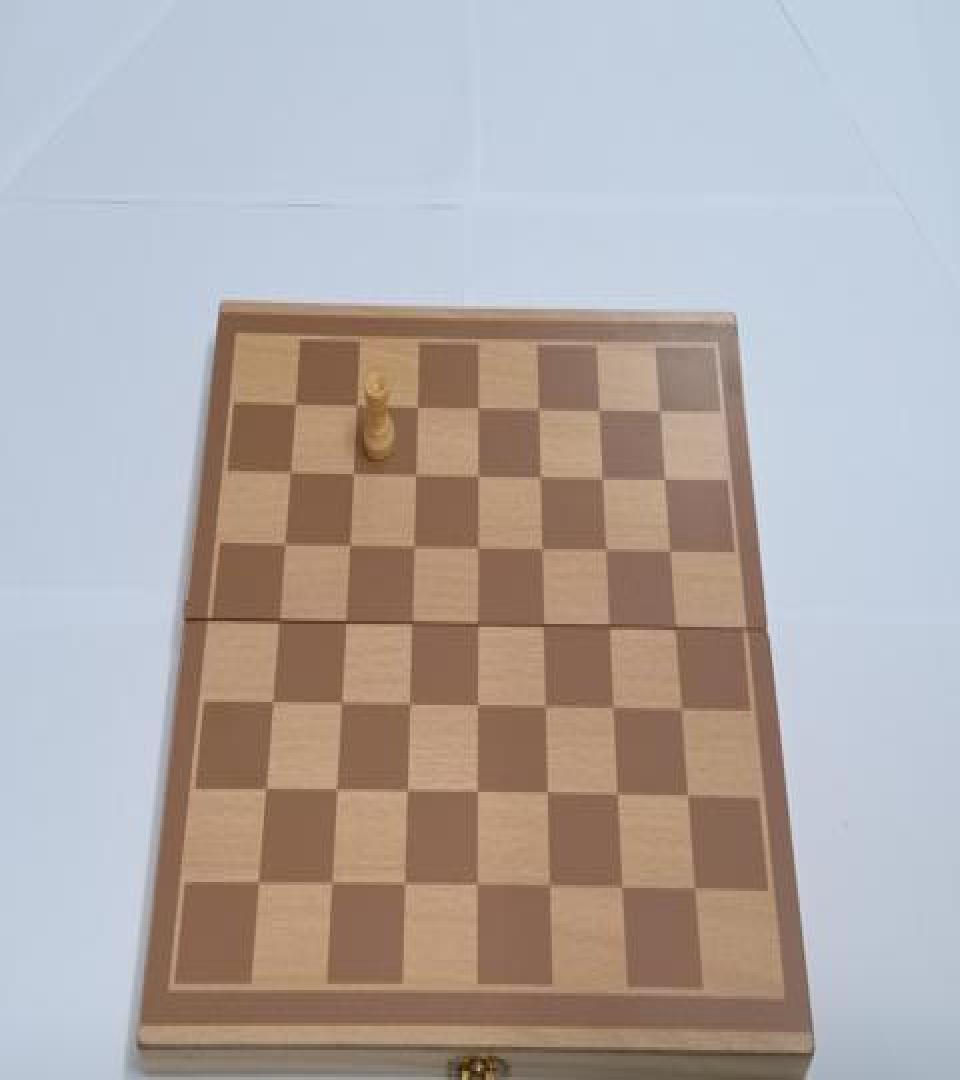xcorner: (589, 466, 607, 494), (601, 694, 619, 722), (651, 466, 669, 494), (669, 694, 687, 722), (287, 399, 305, 426), (282, 465, 300, 492), (269, 610, 287, 637), (256, 777, 274, 804), (248, 868, 266, 895), (346, 399, 364, 426), (343, 465, 361, 492), (334, 612, 352, 639), (325, 778, 343, 805), (320, 870, 338, 897), (406, 399, 424, 426), (404, 465, 422, 492), (402, 537, 420, 564), (400, 612, 418, 639), (397, 693, 415, 720), (395, 778, 413, 805), (466, 399, 484, 426), (465, 465, 483, 492), (465, 537, 483, 564), (465, 612, 483, 639), (465, 693, 483, 720), (465, 780, 483, 807), (525, 399, 543, 426), (527, 465, 545, 492), (529, 537, 547, 564), (531, 612, 549, 639), (533, 693, 551, 720), (535, 780, 553, 807), (537, 873, 555, 900), (585, 399, 603, 426), (592, 537, 610, 564), (605, 780, 623, 807), (610, 873, 628, 900), (645, 399, 663, 426), (656, 537, 674, 564), (683, 874, 701, 901), (276, 536, 294, 562), (263, 692, 281, 718), (339, 536, 357, 562), (330, 692, 348, 718), (392, 872, 410, 898), (464, 872, 482, 898), (596, 614, 614, 640), (662, 614, 680, 640), (676, 782, 694, 808)
